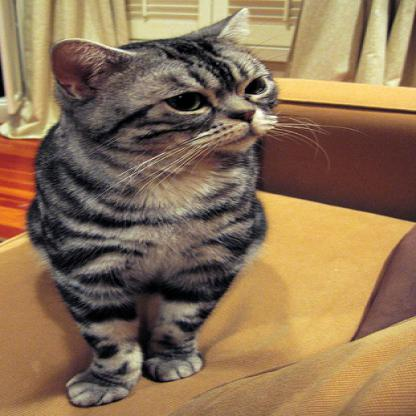cat: (24, 8, 283, 407)
sofa: (0, 76, 415, 415)
